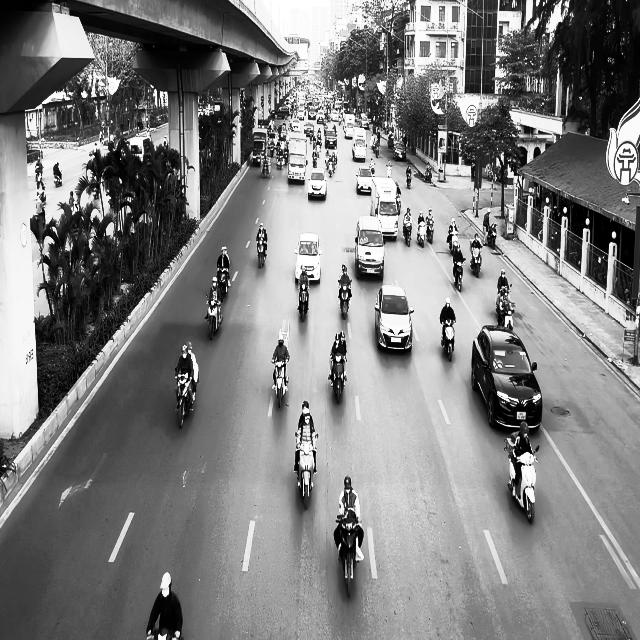car: (471, 324, 543, 431), (374, 283, 414, 353), (355, 215, 385, 280), (294, 232, 323, 284), (308, 167, 328, 199), (356, 165, 373, 194), (393, 140, 407, 160)
motorbike: (504, 439, 540, 523), (335, 513, 361, 597), (295, 431, 318, 508), (175, 371, 195, 428), (329, 351, 347, 403), (272, 356, 289, 407), (205, 294, 223, 340), (496, 283, 514, 329), (440, 318, 456, 361), (338, 279, 352, 318), (453, 257, 466, 292), (470, 241, 482, 278), (298, 284, 309, 322), (217, 267, 230, 298), (257, 237, 268, 268), (448, 228, 459, 254), (417, 221, 427, 247), (487, 223, 497, 249), (403, 218, 412, 246), (426, 218, 434, 243), (54, 172, 62, 187), (406, 170, 412, 188)
